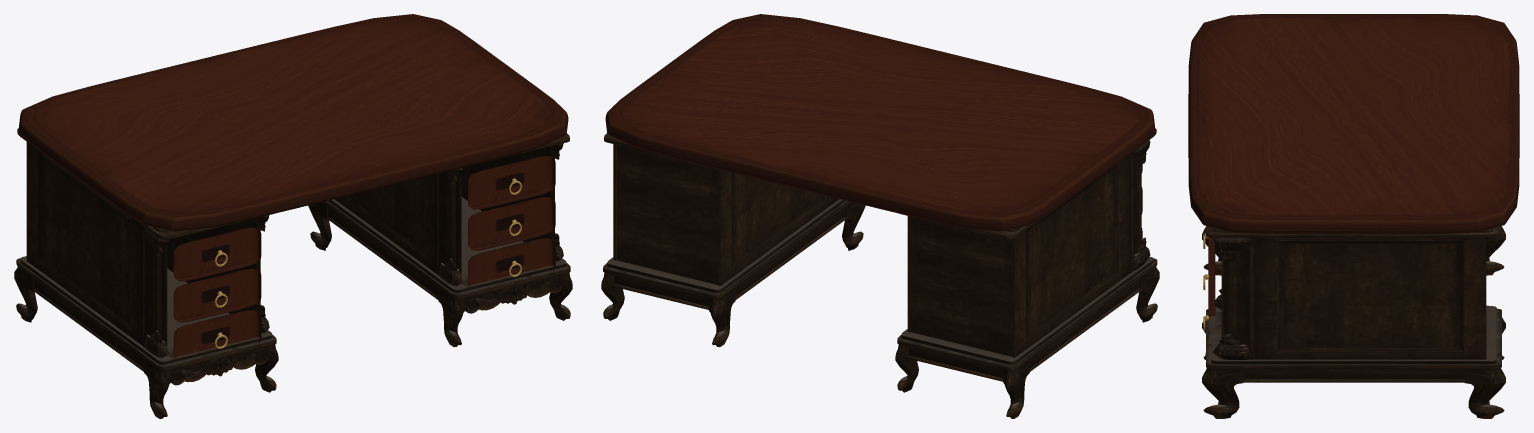
The model's file is antique-desk.glb.
3 views of the same model, side by side, from view 1: azimuth 30°, elevation 25°; view 2: azimuth 150°, elevation 25°; view 3: azimuth 270°, elevation 25° (orthographic).
Visible parts, largest first — view 1: Desk top, Carved pedestal -1, Carved pedestal 1, Drawer front -1 0.619, Drawer front -1 0.452, Drawer front 1 0.619, Drawer front 1 0.452, Drawer front -1 0.285, Drawer front 1 0.285; view 2: Desk top, Carved pedestal -1, Carved pedestal 1; view 3: Desk top, Carved pedestal 1, Carved pedestal -1, Drawer front 1 0.452.
Part boxes in pixels (x1,y1,x2,y2): Desk top: (18, 14, 568, 231); Carved pedestal -1: (14, 128, 278, 418); Carved pedestal 1: (308, 133, 572, 347); Drawer front -1 0.619: (173, 227, 261, 281); Drawer front -1 0.452: (173, 268, 261, 322); Drawer front 1 0.619: (468, 155, 555, 209); Drawer front 1 0.452: (468, 196, 555, 250); Drawer front -1 0.285: (173, 309, 261, 357); Drawer front 1 0.285: (468, 238, 555, 285); Desk top: (605, 14, 1155, 231); Carved pedestal -1: (895, 128, 1159, 418); Carved pedestal 1: (601, 133, 865, 347); Desk top: (1188, 14, 1519, 233); Carved pedestal 1: (1202, 226, 1505, 418); Carved pedestal -1: (1202, 227, 1505, 275); Drawer front 1 0.452: (1208, 274, 1215, 316).
Size of the model in its own units: 1.83 by 0.8255 by 1.22.
Materials: 3 (2 with a texture image).
